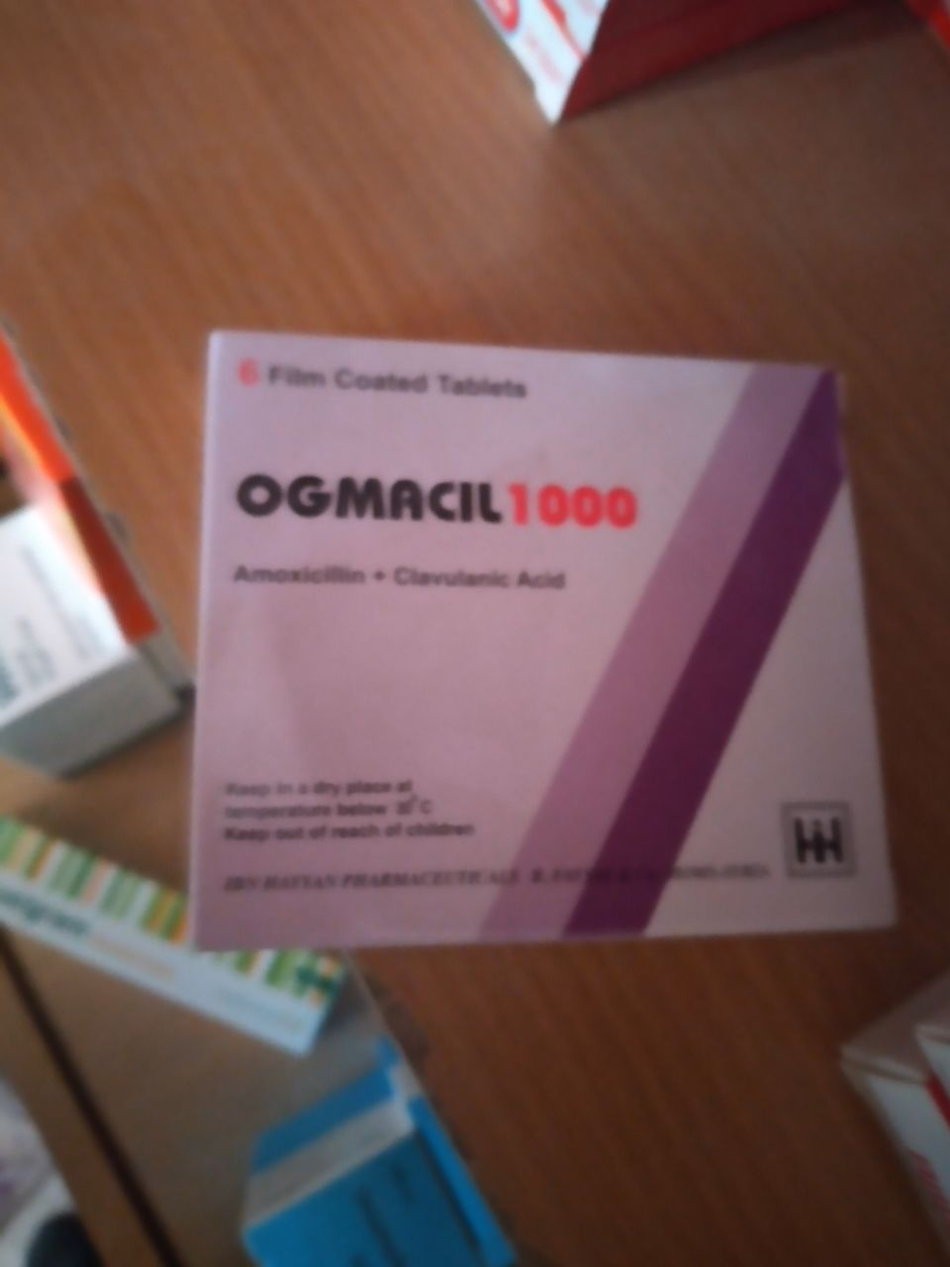Medicine: (191, 307, 917, 970)
